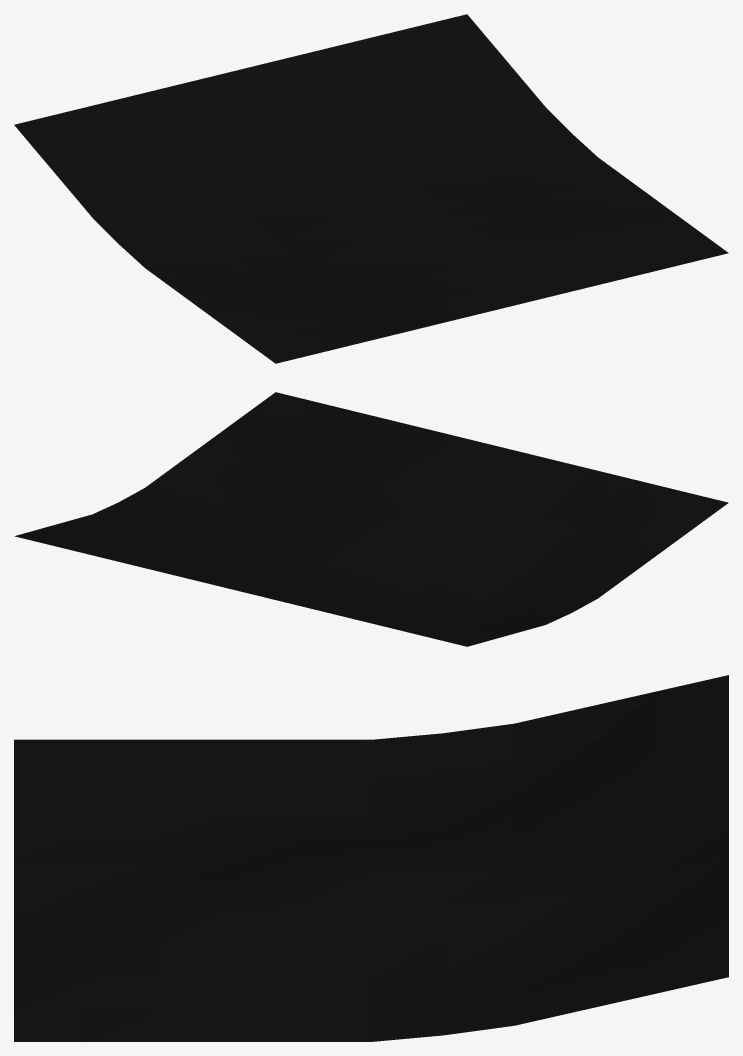
File: side_0.obj
3 views of the same model, one above another, from view 1: azimuth 30°, elevation 25°; view 2: azimuth 150°, elevation 25°; view 3: azimuth 270°, elevation 25° (orthographic). The views are drawn at different scales.
Parts seen in each view (by area): view 1: Plane; view 2: Plane; view 3: Plane.
Part boxes in pixels (bbox=[...]): Plane: bbox=[14, 14, 728, 363]; Plane: bbox=[14, 392, 728, 646]; Plane: bbox=[14, 675, 728, 1041].
Bounding box in the file's own units: 100 × 12.34 × 100.
